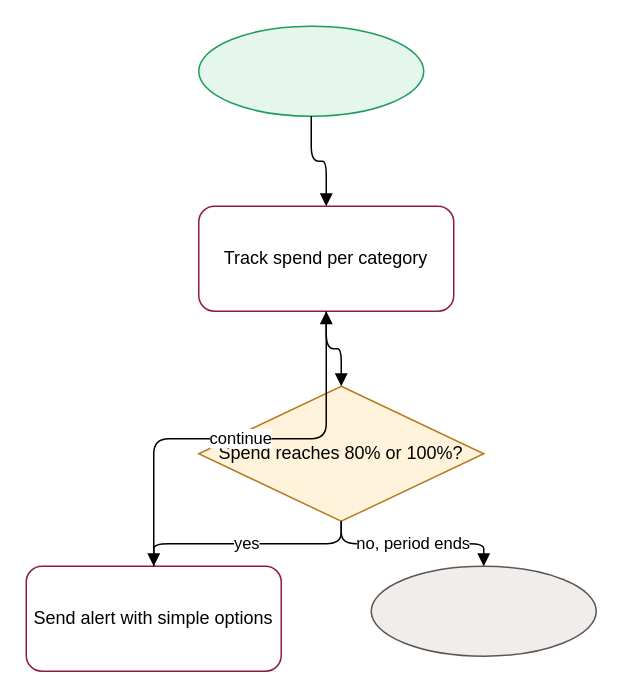
This 623x698 diagram has some shape labels left out. The shapes that lost their labels are listed below. From the top down, each one's centre as x and y in pixels, then its label:
the point at 310,70: Customer creates a budget
the point at 483,610: Budget period ends; summary
